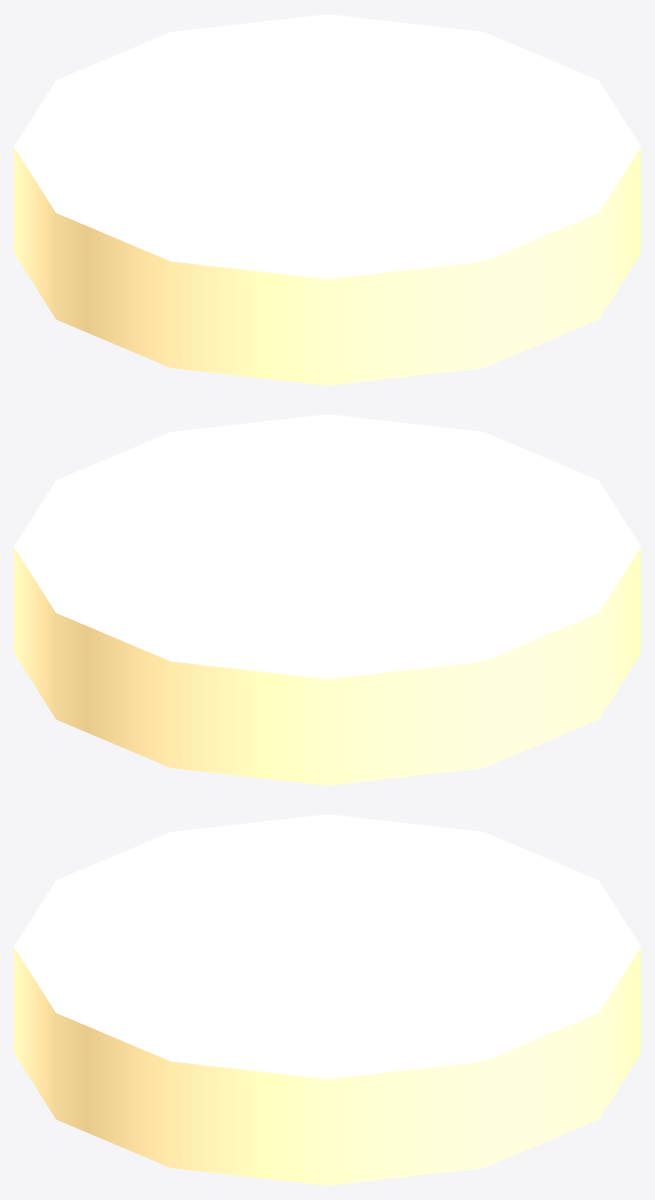
File: carving-worn-revealed.gltf
The picture shows the model from 3 angles, top to bottom: view 1: azimuth 30°, elevation 25°; view 2: azimuth 150°, elevation 25°; view 3: azimuth 270°, elevation 25°; orthographic projection.
Visible parts, largest first — view 1: Moon; view 2: Moon; view 3: Moon.
Part boxes in pixels (x1,y1,x2,y2): Moon: (14, 14, 640, 385); Moon: (14, 414, 640, 785); Moon: (14, 814, 640, 1185).
Bounding box in the file's own units: 0.16 × 0.03 × 0.16.
